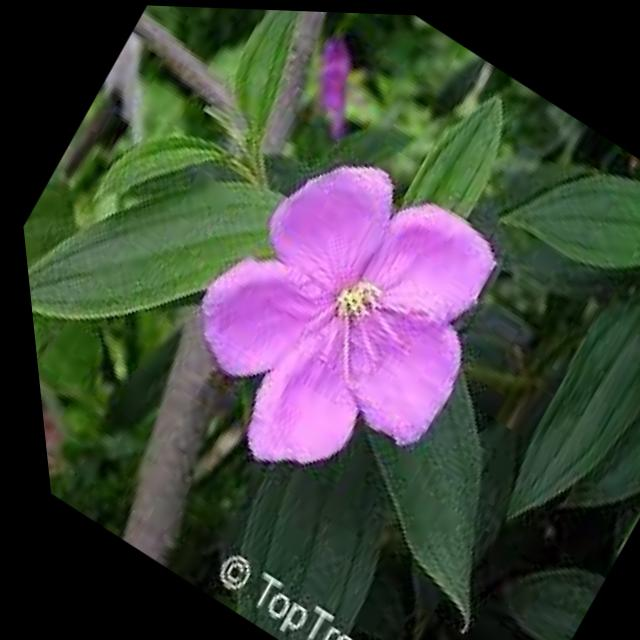Flower: (121, 111, 556, 549)
